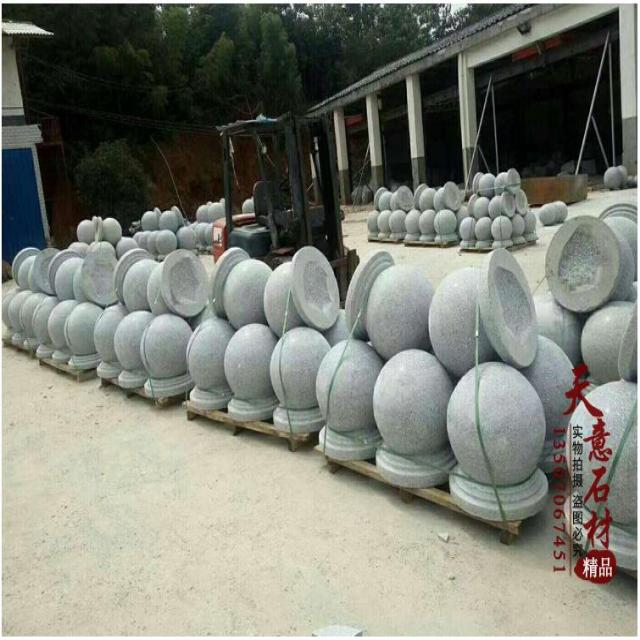spherical_roadblock: (446, 360, 551, 520), (563, 380, 636, 573), (429, 246, 540, 366), (375, 350, 450, 488), (342, 248, 431, 355), (316, 337, 378, 461), (264, 246, 336, 333), (270, 326, 326, 436), (222, 323, 275, 420), (211, 246, 269, 326), (581, 294, 635, 377), (144, 246, 205, 316), (142, 313, 192, 397), (188, 316, 232, 409), (114, 308, 152, 389), (65, 301, 102, 371), (94, 300, 123, 379), (46, 296, 72, 364), (48, 247, 78, 300), (431, 209, 458, 243), (489, 213, 513, 246), (418, 205, 436, 241), (537, 201, 555, 225), (602, 165, 621, 187)
